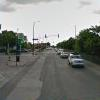Car: (56, 51, 86, 69)
